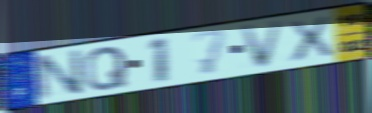1: (147, 35, 173, 84)
7: (190, 28, 229, 78)
N: (32, 47, 85, 103)
Q: (84, 44, 130, 93)
V: (239, 17, 288, 71)
X: (285, 14, 338, 64)
